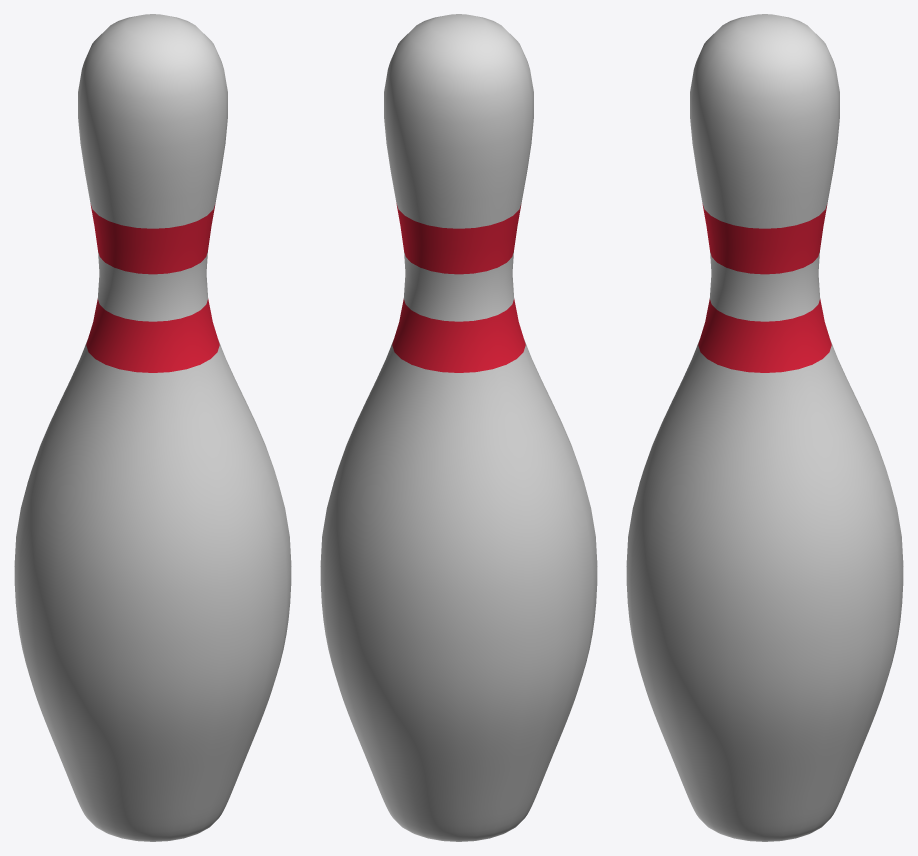
The model's file is Bowling Pin.fbx.
The picture shows the model from 3 angles, left to right: view 1: azimuth 30°, elevation 25°; view 2: azimuth 150°, elevation 25°; view 3: azimuth 270°, elevation 25°; orthographic projection.
Parts seen in each view (by area): view 1: Pin; view 2: Pin; view 3: Pin.
Boxes of the visible parts, <box> form: Pin: <box>14,14,291,841</box>; Pin: <box>320,14,597,841</box>; Pin: <box>626,14,903,841</box>.
Size of the model in its own units: 120 by 380 by 120.
